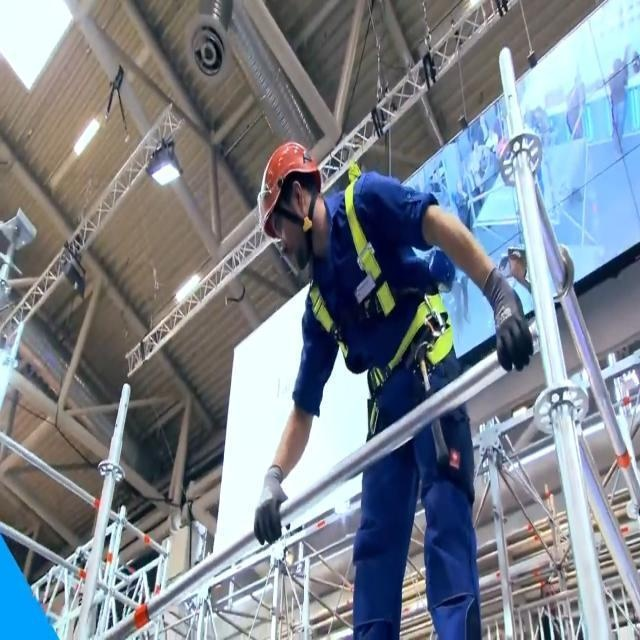Arnes_seguridad: (306, 135, 454, 448)
